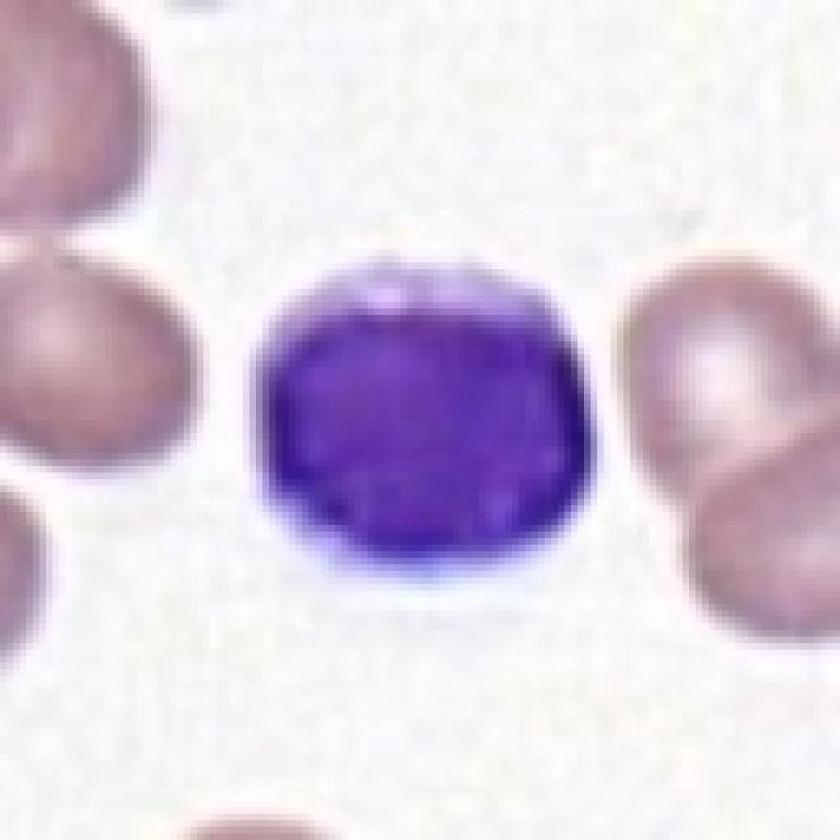lymphocyte: (242, 248, 604, 588)
